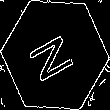N_NE: (27, 26, 83, 84)
